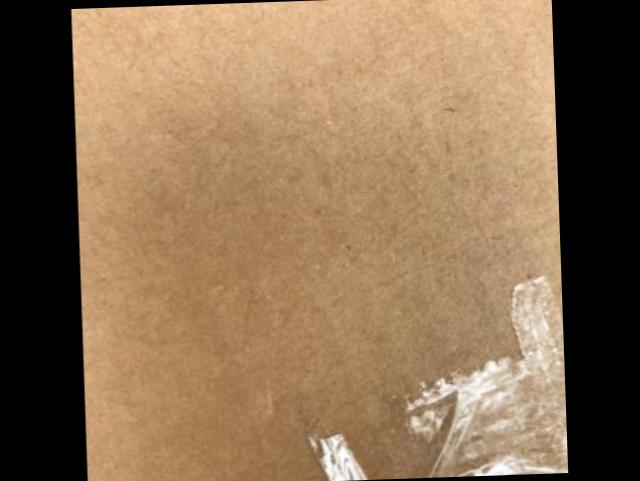cardboard paper: (71, 0, 569, 481)
